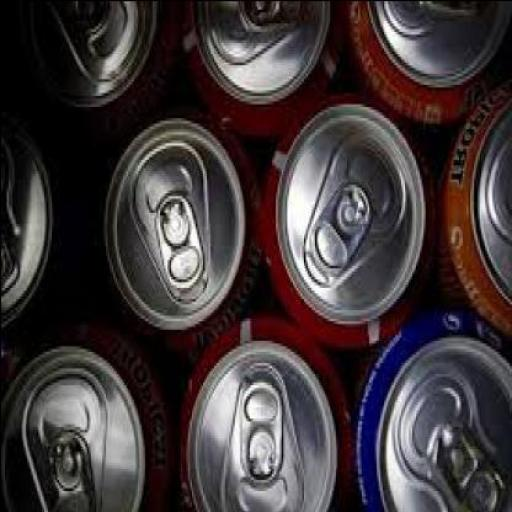metal: (252, 84, 434, 350), (86, 112, 256, 356), (167, 311, 352, 511), (350, 314, 510, 511), (1, 330, 171, 511), (174, 3, 340, 142), (14, 2, 174, 136), (338, 2, 510, 126), (432, 78, 510, 340), (1, 102, 69, 335)
